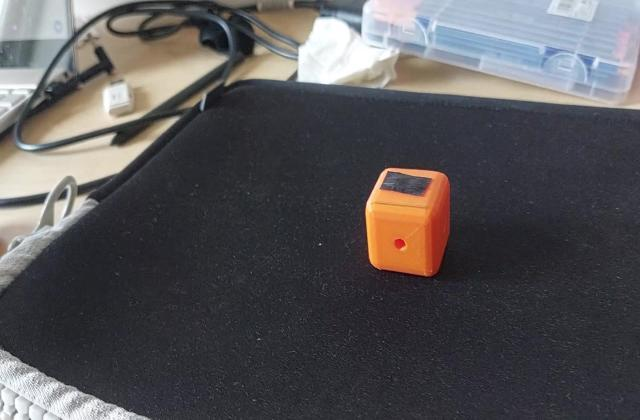black: (382, 170, 437, 200)
cube: (359, 168, 452, 280)
